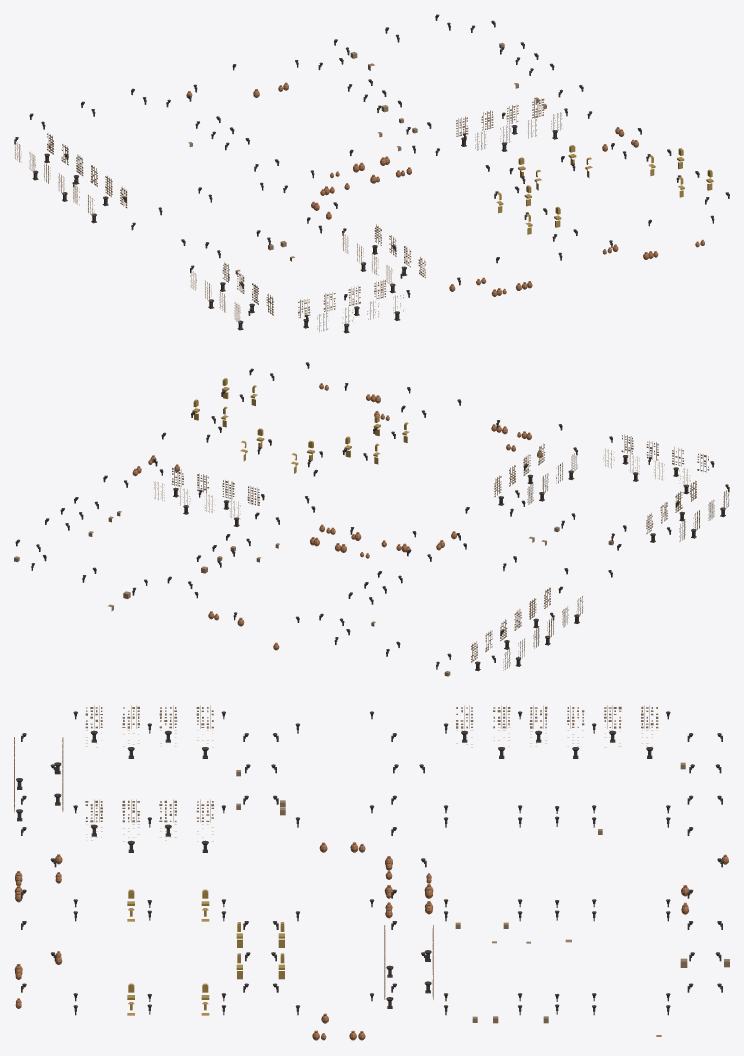
File: details.glb
3 views of the same model, one above another, from view 1: azimuth 30°, elevation 25°; view 2: azimuth 150°, elevation 25°; view 3: azimuth 270°, elevation 25° (orthographic). The views are drawn at different scales.
Visible parts, largest first — view 1: details; view 2: details; view 3: details.
Boxes of the visible parts, <box> form: details: <box>14,14,729,333</box>; details: <box>14,362,729,676</box>; details: <box>14,705,729,1040</box>.
Size of the model in its own units: 58 by 3.4 by 58.
